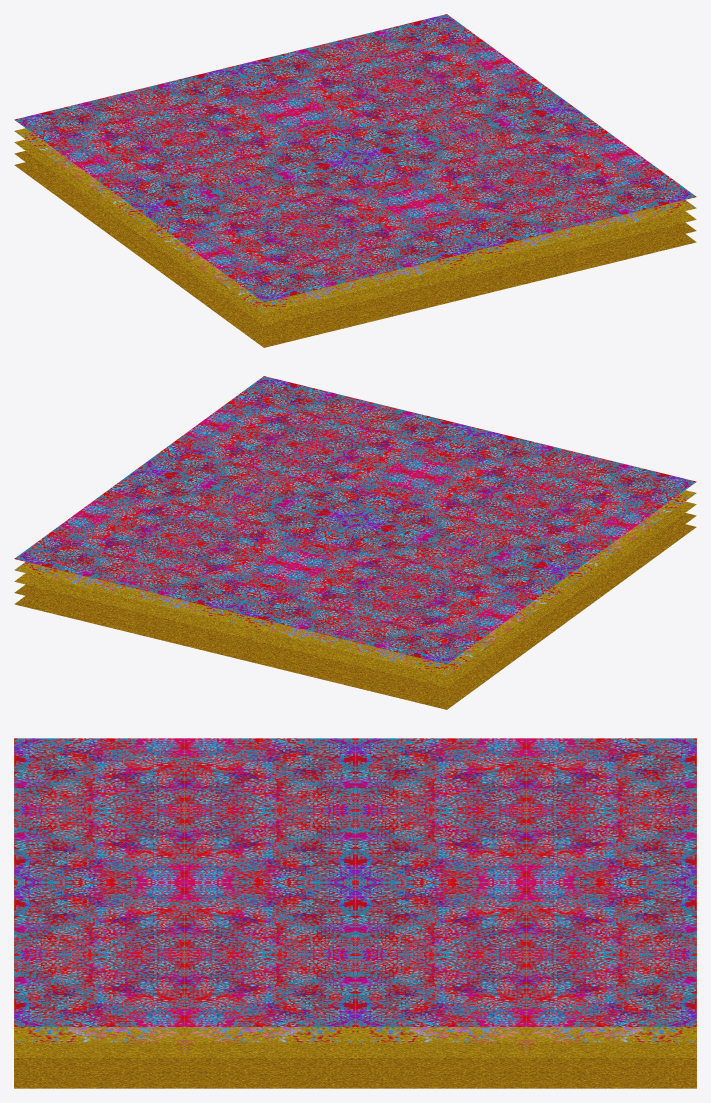
The model's file is graan_2.fbx.
3 views of the same model, one above another, from view 1: azimuth 30°, elevation 25°; view 2: azimuth 150°, elevation 25°; view 3: azimuth 270°, elevation 25° (orthographic). The views are drawn at different scales.
Visible parts, largest first — view 1: graan_2; view 2: graan_2; view 3: graan_2.
Boxes of the visible parts, left/top/right/bottom form: graan_2: left=14, top=14, right=696, bottom=347; graan_2: left=14, top=376, right=696, bottom=709; graan_2: left=14, top=738, right=696, bottom=1088.
Bounding box in the file's own units: 2000 × 200 × 2000.
1 material, 1 textured.
